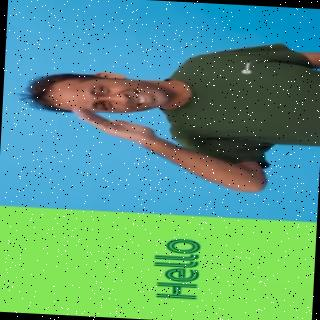Hello: (12, 36, 320, 195)
